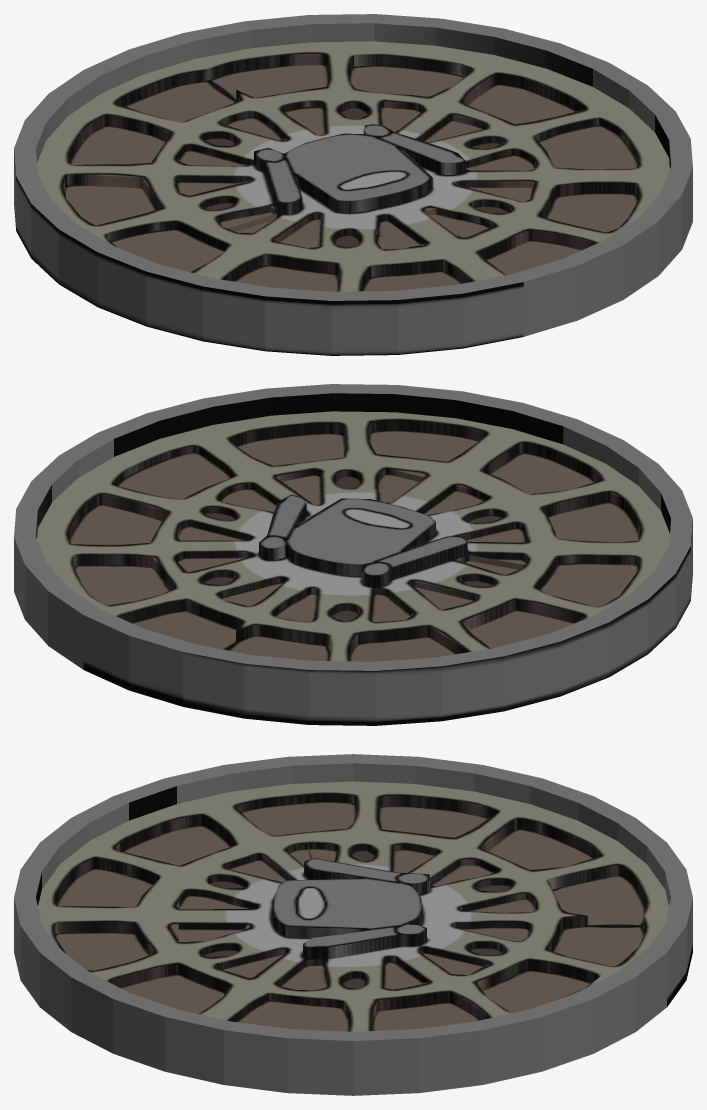
File: manhole v2.fbx
The picture shows the model from 3 angles, top to bottom: view 1: azimuth 30°, elevation 25°; view 2: azimuth 150°, elevation 25°; view 3: azimuth 270°, elevation 25°; orthographic projection.
Parts seen in each view (by area): view 1: Cylinder; view 2: Cylinder; view 3: Cylinder.
Part boxes in pixels (x1,y1,x2,y2): Cylinder: (14, 14, 692, 355); Cylinder: (14, 384, 692, 725); Cylinder: (14, 754, 692, 1095).
Bounding box in the file's own units: 419 × 37.3 × 419.
1 material, 1 textured.
